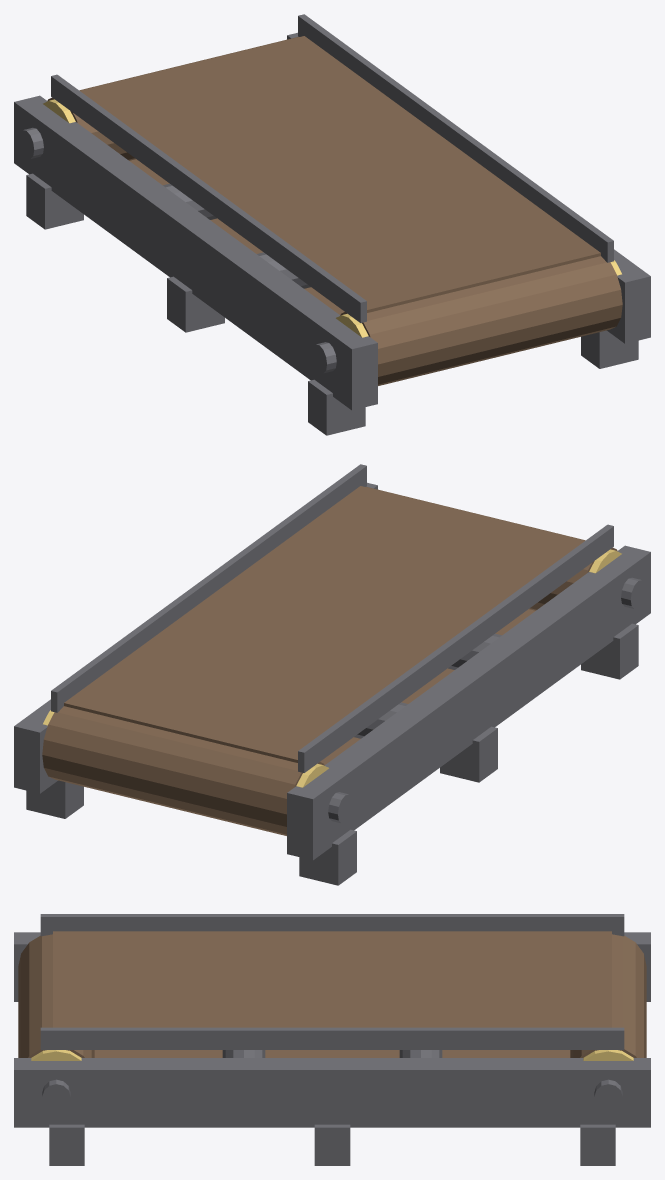
Rendered from conveyor_belt.glb.
3 views of the same model, one above another, from view 1: azimuth 30°, elevation 25°; view 2: azimuth 150°, elevation 25°; view 3: azimuth 270°, elevation 25° (orthographic). The views are drawn at different scales.
Visible parts, largest first — view 1: Cube.008, Cube, Cylinder.008, Cube.010, Cube.011, Cube.004, Cube.001, Cube.003, Cube.002, Cube.005, Cube.009, Cylinder.009 (+2 smaller); view 2: Cube.008, Cube, Cylinder.009, Cube.010, Cube.011, Cube.004, Cube.003, Cube.001, Cube.002, Cube.007, Cube.009, Cylinder.008 (+2 smaller); view 3: Cube.008, Cube.004, Cube.011, Cube.010, Cylinder.008, Cylinder.009, Cube.009, Cube.006, Cube.005, Cube.007, Cube, Cylinder.002 (+3 smaller).
Part boxes in pixels (left/top/right/bottom): Cube.008: left=80, top=36, right=600, bottom=312; Cube: left=14, top=95, right=377, bottom=410; Cylinder.008: left=340, top=256, right=622, bottom=385; Cube.010: left=51, top=74, right=366, bottom=322; Cube.011: left=298, top=14, right=613, bottom=262; Cube.004: left=287, top=32, right=650, bottom=343; Cube.001: left=308, top=379, right=365, bottom=435; Cube.003: left=26, top=173, right=83, bottom=229; Cube.002: left=167, top=276, right=224, bottom=332; Cube.005: left=581, top=330, right=638, bottom=368; Cube.009: left=129, top=159, right=344, bottom=314; Cylinder.009: left=47, top=37, right=298, bottom=160; Cube.008: left=64, top=486, right=584, bottom=762; Cube: left=287, top=545, right=650, bottom=860; Cylinder.009: left=42, top=706, right=324, bottom=835; Cube.010: left=298, top=524, right=613, bottom=772; Cube.011: left=51, top=464, right=366, bottom=712; Cube.004: left=14, top=482, right=377, bottom=793; Cube.003: left=299, top=829, right=356, bottom=885; Cube.001: left=581, top=623, right=638, bottom=679; Cube.002: left=440, top=726, right=497, bottom=782; Cube.007: left=26, top=780, right=83, bottom=818; Cube.009: left=320, top=609, right=535, bottom=764; Cylinder.008: left=366, top=487, right=617, bottom=610; Cube.008: left=53, top=931, right=611, bottom=1027; Cube.004: left=14, top=1058, right=650, bottom=1127; Cube.011: left=40, top=1027, right=624, bottom=1049; Cube.010: left=40, top=914, right=624, bottom=936; Cylinder.008: left=18, top=934, right=94, bottom=1057; Cylinder.009: left=570, top=934, right=646, bottom=1057; Cube.009: left=94, top=1050, right=570, bottom=1057; Cube.006: left=314, top=1124, right=350, bottom=1165; Cube.005: left=49, top=1124, right=84, bottom=1165; Cube.007: left=580, top=1124, right=615, bottom=1165; Cube: left=14, top=932, right=650, bottom=1001; Cylinder.002: left=42, top=1079, right=70, bottom=1109.
Bounding box in the file's own units: 0.98 × 0.38 × 1.8.
